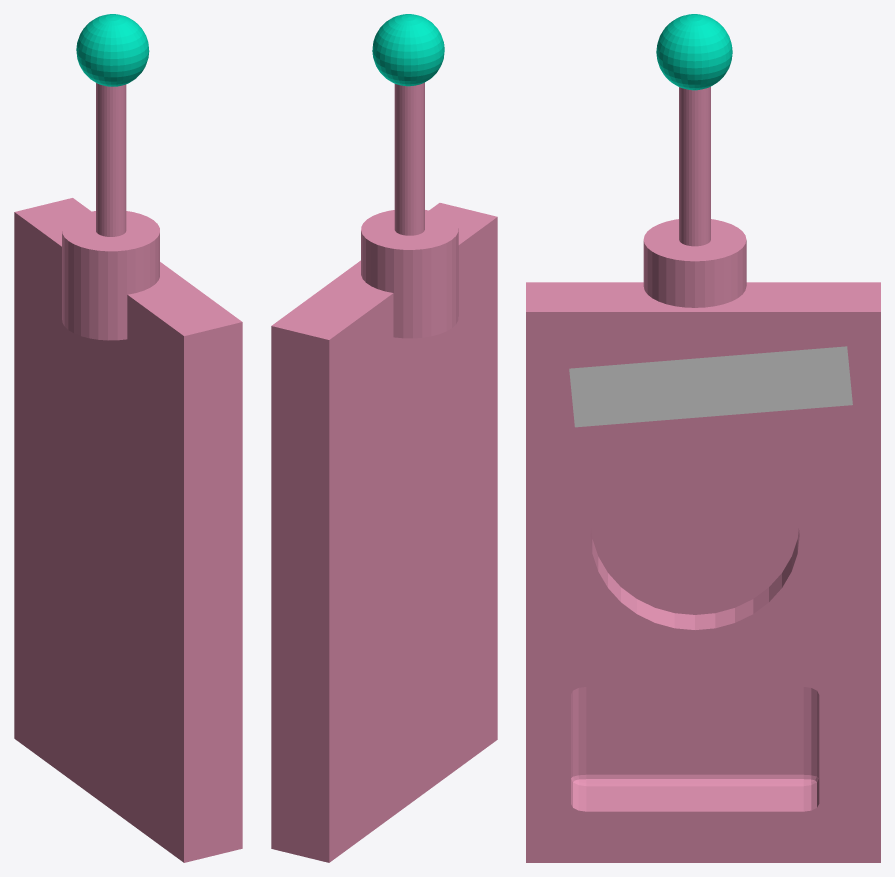
Rendered from ControllerBody.fbx.
The picture shows the model from 3 angles, left to right: view 1: azimuth 30°, elevation 25°; view 2: azimuth 150°, elevation 25°; view 3: azimuth 270°, elevation 25°; orthographic projection. The views are drawn at different scales.
Visible parts, largest first — view 1: Cube; view 2: Cube; view 3: Cube.
Part boxes in pixels (bbox=[...]): Cube: bbox=[14, 14, 242, 862]; Cube: bbox=[271, 14, 497, 862]; Cube: bbox=[526, 14, 880, 862].
Size of the model in its own units: 70.61 by 565 by 222.
